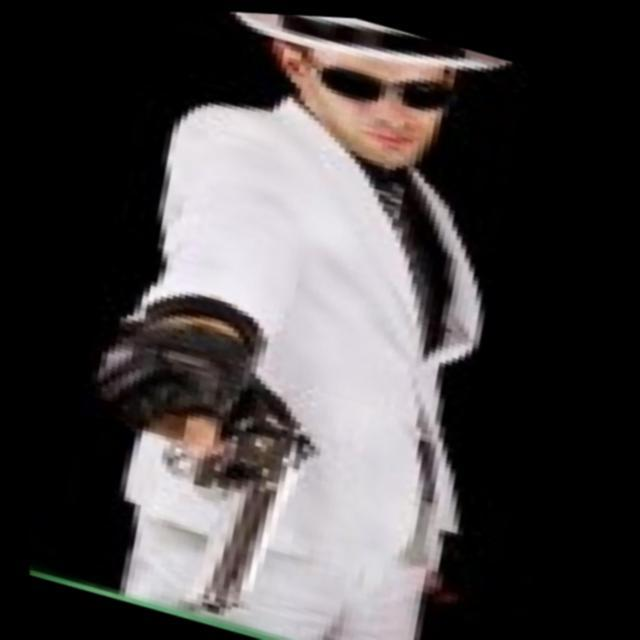weapon: (32, 273, 348, 638)
